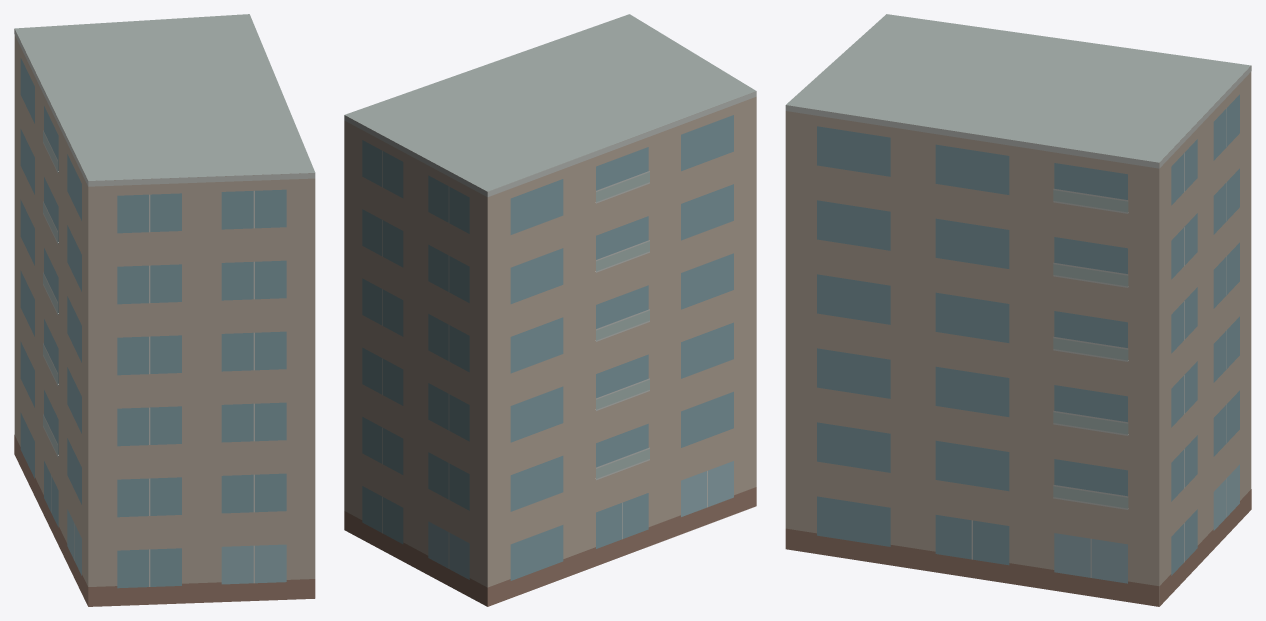
The model's file is survey-upis-32893036.glb.
The picture shows the model from 3 angles, left to right: view 1: azimuth 30°, elevation 25°; view 2: azimuth 150°, elevation 25°; view 3: azimuth 270°, elevation 25°; orthographic projection. The views are drawn at different scales.
Visible parts, largest first — view 1: survey-upis-32893036.tmp; view 2: survey-upis-32893036.tmp; view 3: survey-upis-32893036.tmp.
Boxes of the visible parts, x1,y1,x2,y2 form: survey-upis-32893036.tmp: (14,14,315,606); survey-upis-32893036.tmp: (344,14,756,606); survey-upis-32893036.tmp: (785,14,1251,606).
Bounding box in the file's own units: 13.15 × 18.3 × 17.4.
